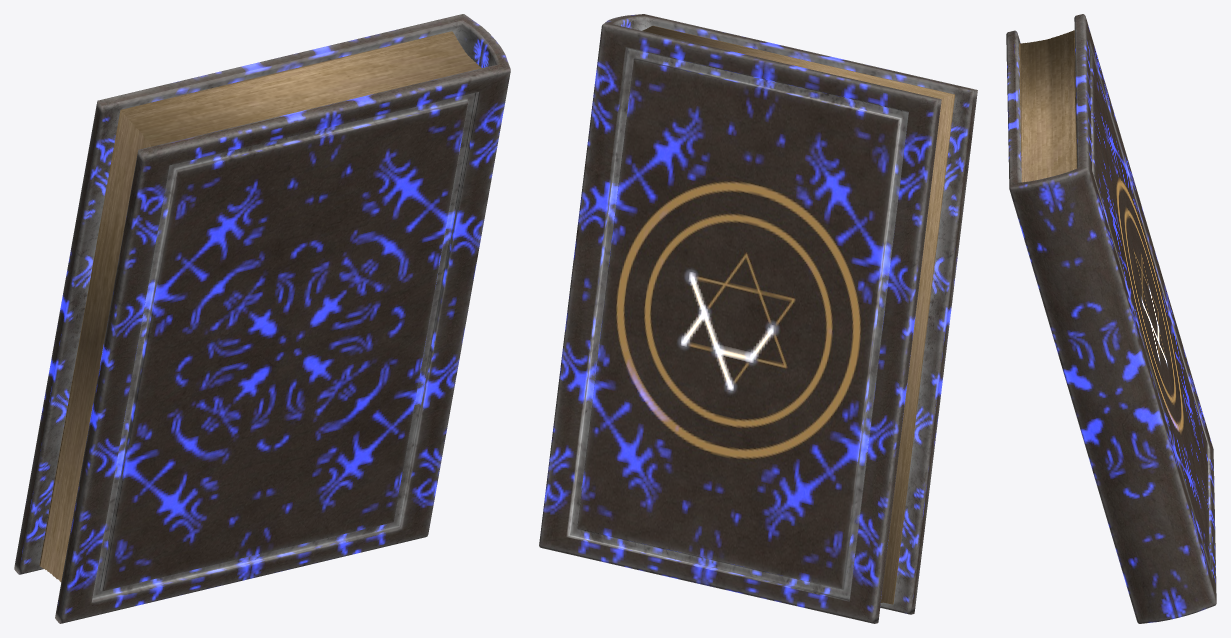
3 views of the same model, side by side, from view 1: azimuth 30°, elevation 25°; view 2: azimuth 150°, elevation 25°; view 3: azimuth 270°, elevation 25° (orthographic). The views are drawn at different scales.
Parts seen in each view (by area): view 1: SM_Book_01.001, SM_Book_01; view 2: SM_Book_01.001, SM_Book_01; view 3: SM_Book_01.001, SM_Book_01.
Boxes of the visible parts, x1,y1,x2,y2 form: SM_Book_01.001: (14, 14, 510, 623); SM_Book_01: (39, 31, 481, 582); SM_Book_01.001: (539, 14, 977, 623); SM_Book_01: (642, 25, 954, 604); SM_Book_01.001: (1006, 14, 1216, 623); SM_Book_01: (1019, 30, 1077, 182).
Bounding box in the file's own units: 1.49 × 2.03 × 0.8378.
2 materials, 2 textured.
